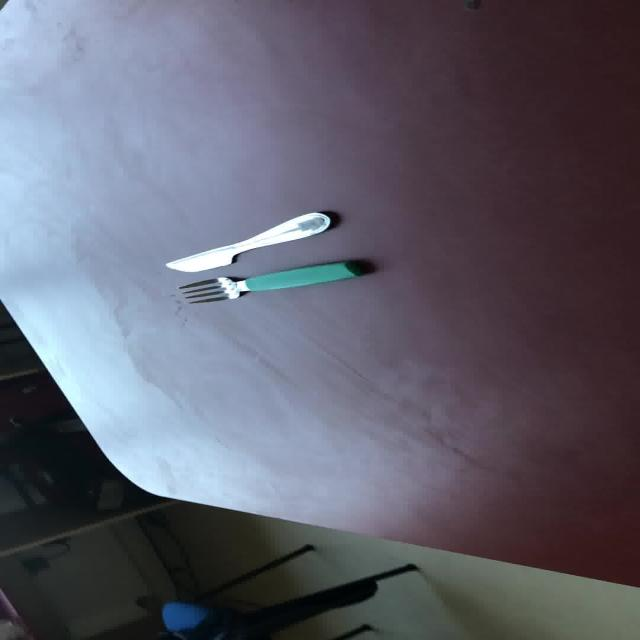fork: (175, 259, 368, 304)
knife fork: (163, 211, 330, 272), (175, 259, 369, 304)
